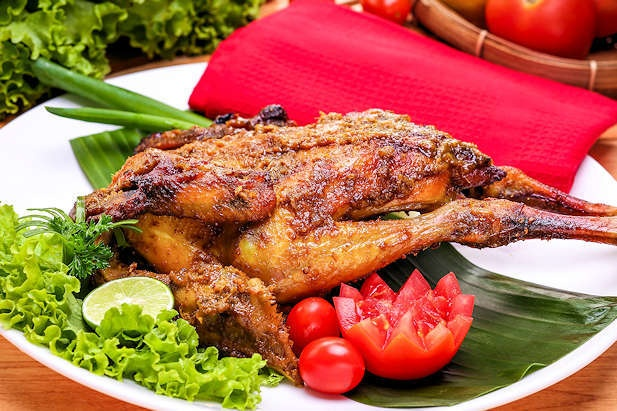ayam_betutu: (70, 104, 617, 267)
